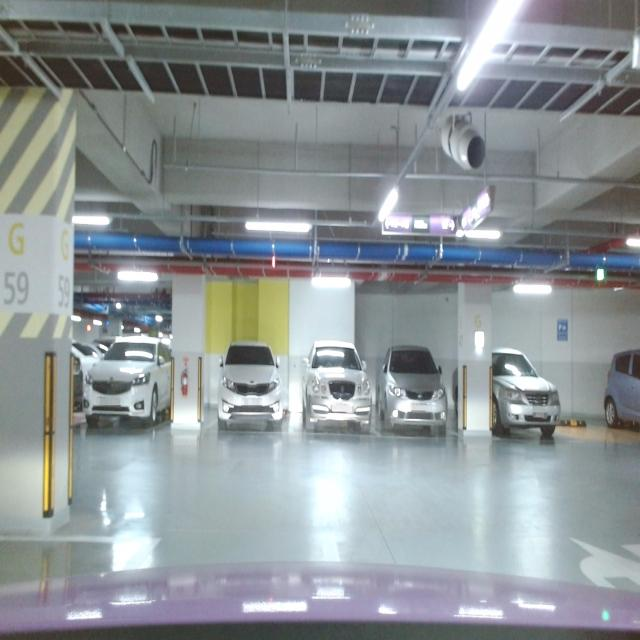empty: (556, 409, 632, 444)
occupied: (84, 334, 174, 430), (216, 344, 292, 438), (302, 341, 373, 441), (490, 346, 562, 442), (378, 341, 447, 438)
